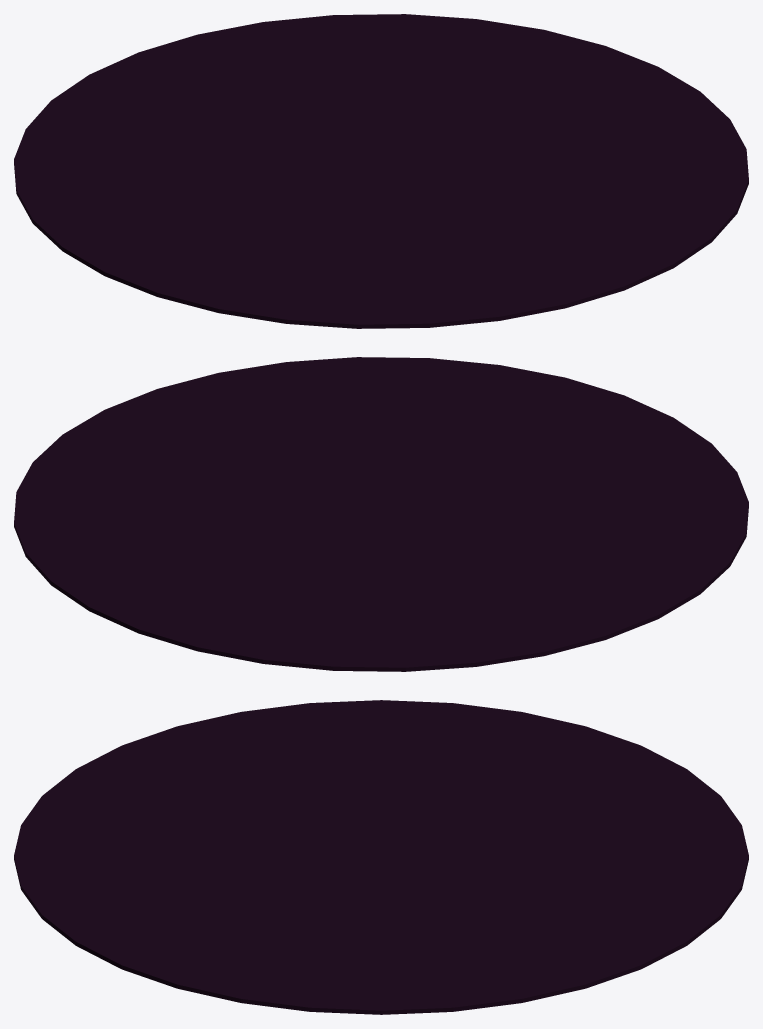
The model's file is MODEL_Portal.fbx.
3 views of the same model, one above another, from view 1: azimuth 30°, elevation 25°; view 2: azimuth 150°, elevation 25°; view 3: azimuth 270°, elevation 25° (orthographic).
Parts seen in each view (by area): view 1: Cylinder; view 2: Cylinder; view 3: Cylinder.
Part boxes in pixels (<box>): Cylinder: <box>14,14,748,328</box>; Cylinder: <box>14,357,748,671</box>; Cylinder: <box>14,700,748,1014</box>.
Size of the model in its own units: 200 by 1.25 by 200.
